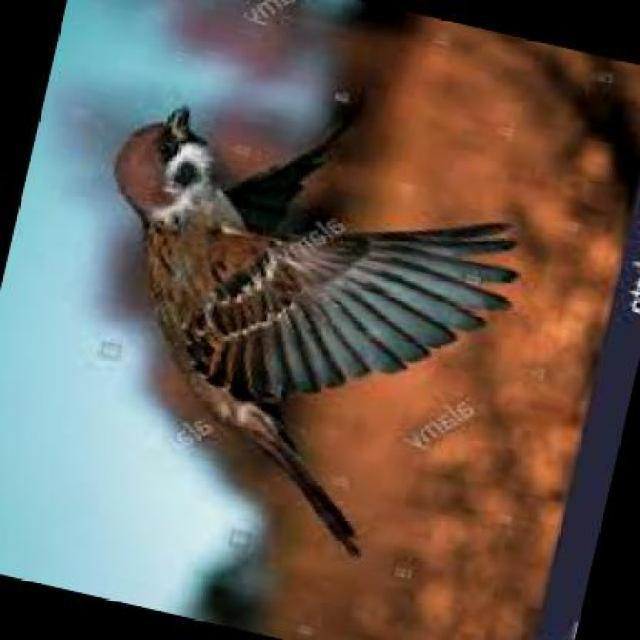Bird: (111, 96, 524, 570)
